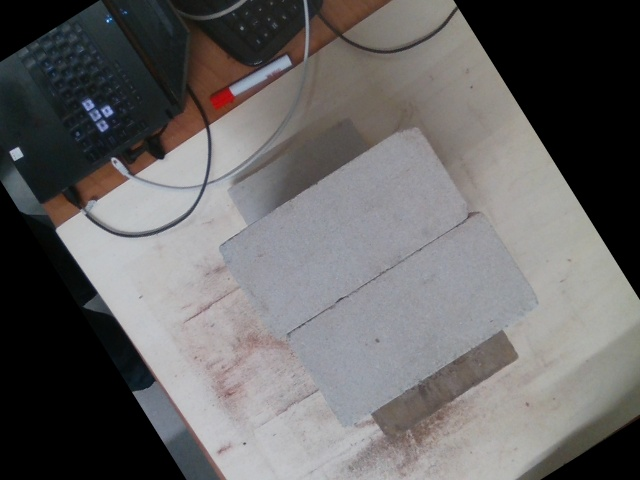brick: (219, 124, 473, 337), (289, 213, 543, 425)
